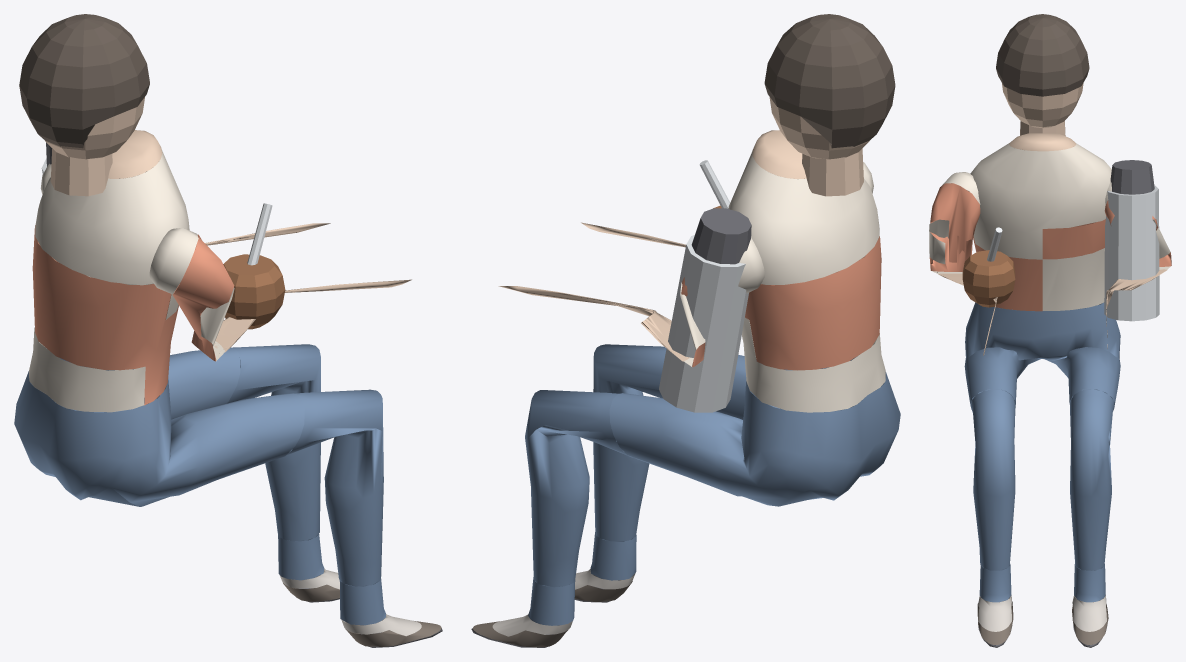
The model's file is rambla_seated_1.glb.
The picture shows the model from 3 angles, left to right: view 1: azimuth 30°, elevation 25°; view 2: azimuth 150°, elevation 25°; view 3: azimuth 270°, elevation 25°; orthographic projection. The views are drawn at different scales.
Parts seen in each view (by area): view 1: rider_torso; view 2: rider_torso; view 3: rider_torso.
Boxes of the visible parts, x1,y1,x2,y2 form: rider_torso: (14, 14, 442, 647); rider_torso: (471, 14, 900, 647); rider_torso: (929, 14, 1171, 647).
Size of the model in its own units: 0.7582 by 1.25 by 0.5432.
